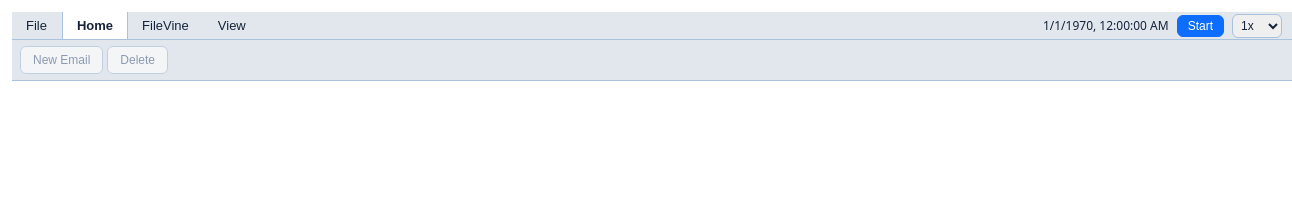
RibbonBar › About entry (035) › clicking About again collapses it
This screenshot has width=1292, height=199.
Click the button "File": click(37, 26) [12,12,62,39]
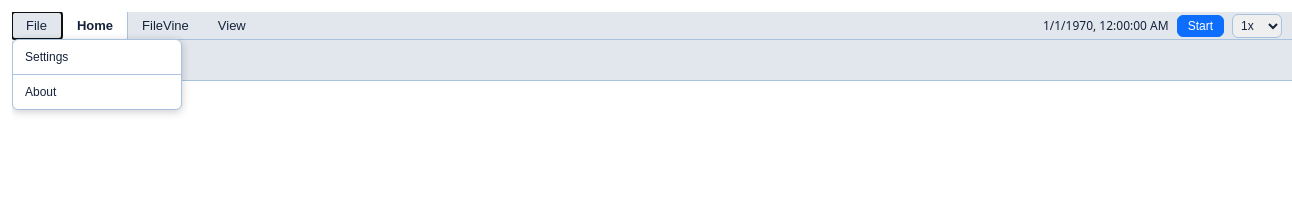
Click the menu item "About": click(97, 92) [13,79,181,105]
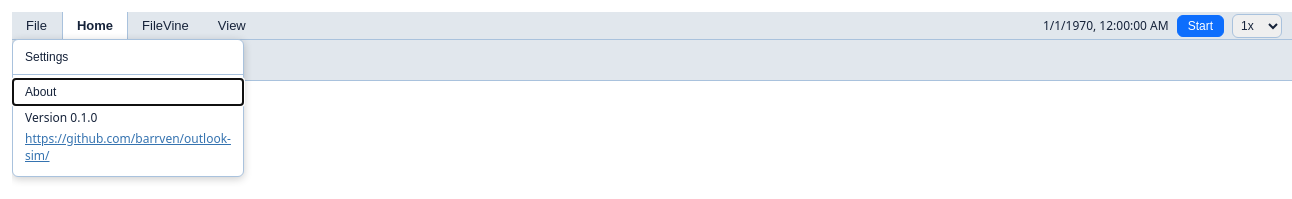
Now the text "Version 0.1.0" is shown, box [25,109,97,126]
Click the menu item "About": click(128, 92) [13,79,243,105]
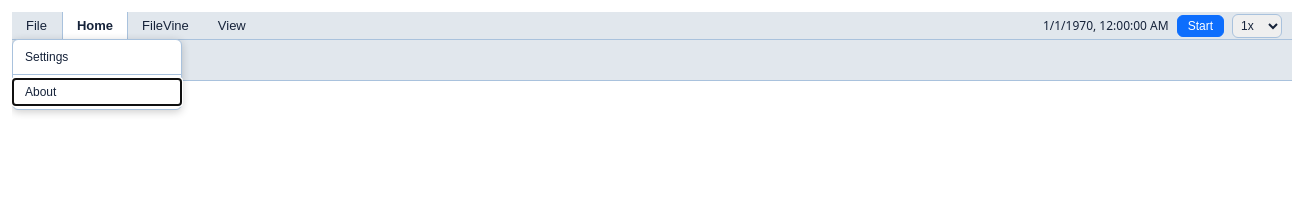
Now the text "Version" is gone
